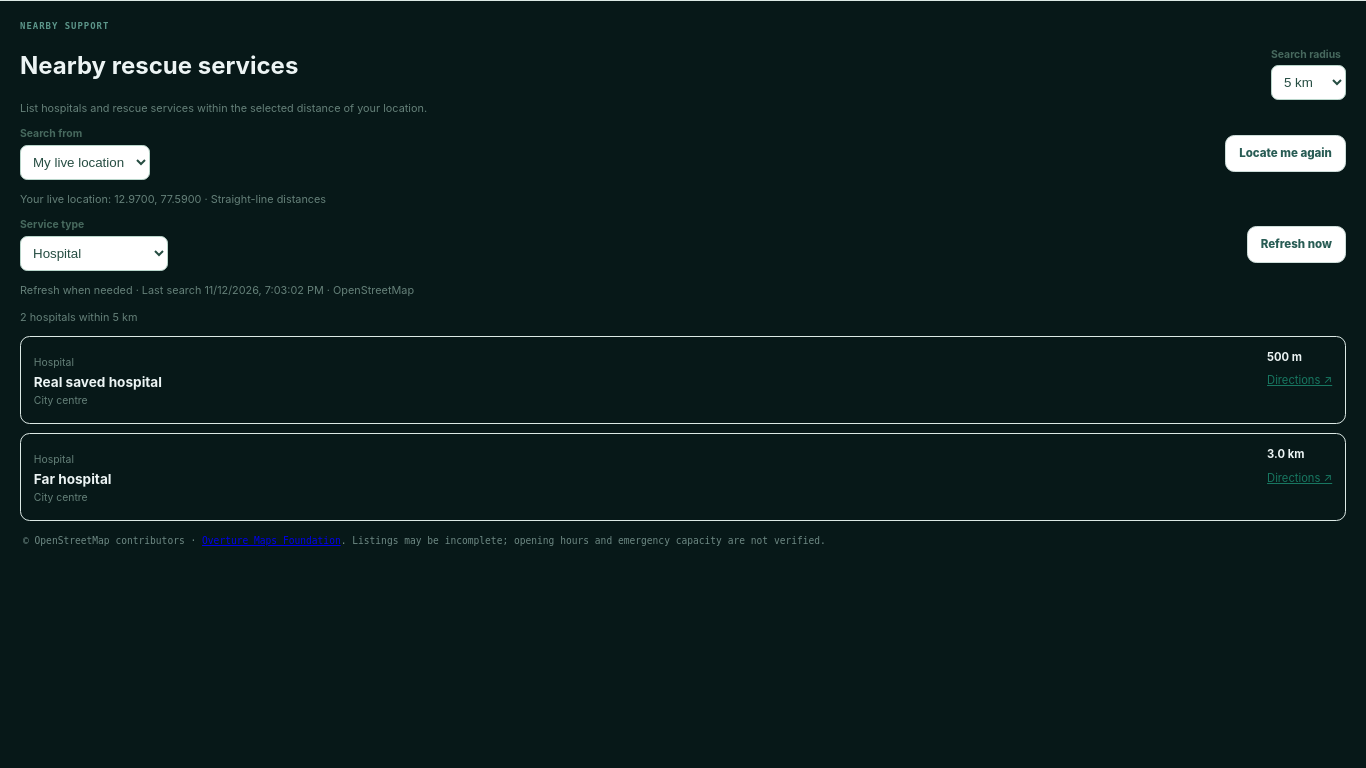
Test: filters saved wider results to the exact selected radius
Expected: the heading "Far hospital" is shown, [34,471,112,487]
Select "2 km" in the dropdown labelled "Search radius". click: (1308, 83)
box: [1271,65,1346,100]
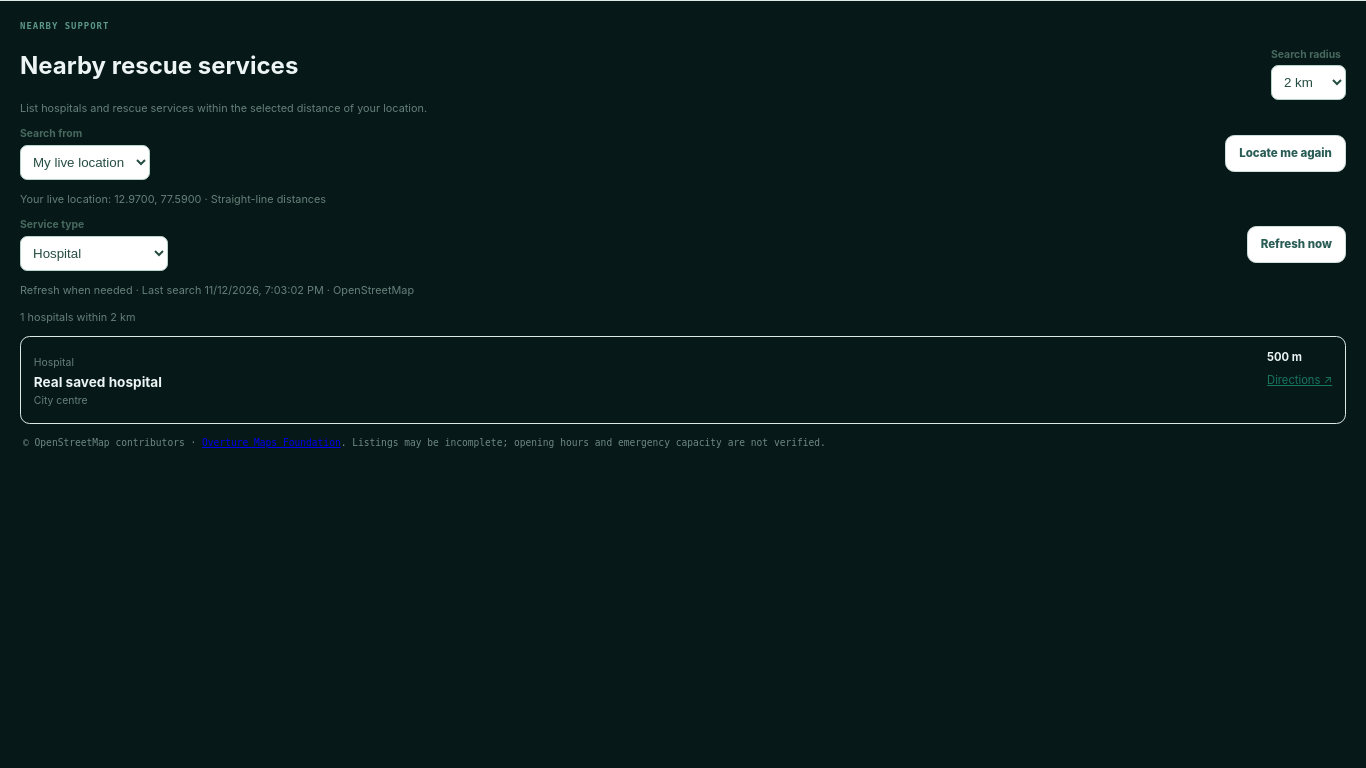
Expected: the heading "Real saved hospital" is shown, [34,374,162,390]
Result: the heading "Far hospital" is gone
